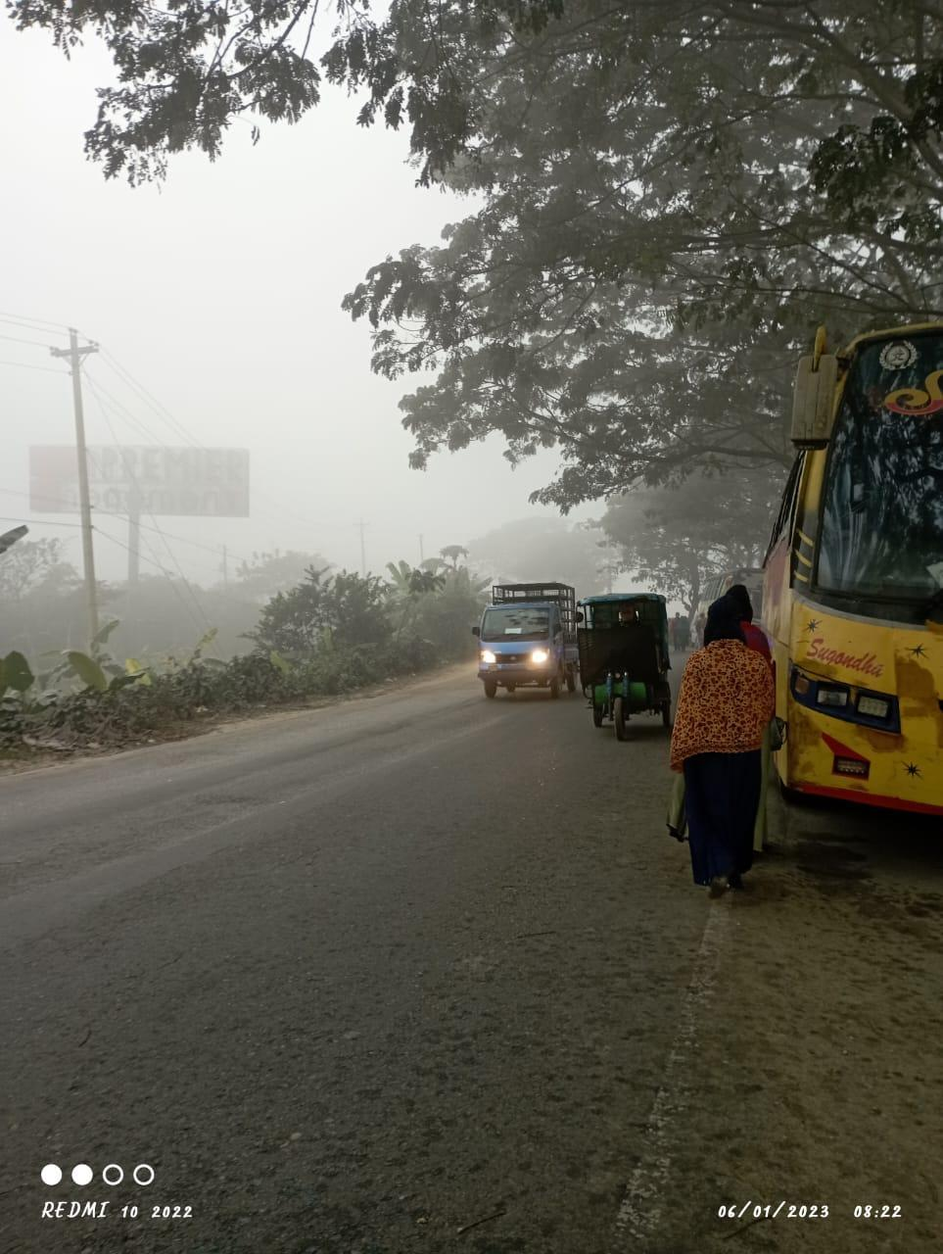Bus: (756, 314, 943, 865)
Car: (574, 589, 675, 744)
Truck: (466, 569, 581, 695)
